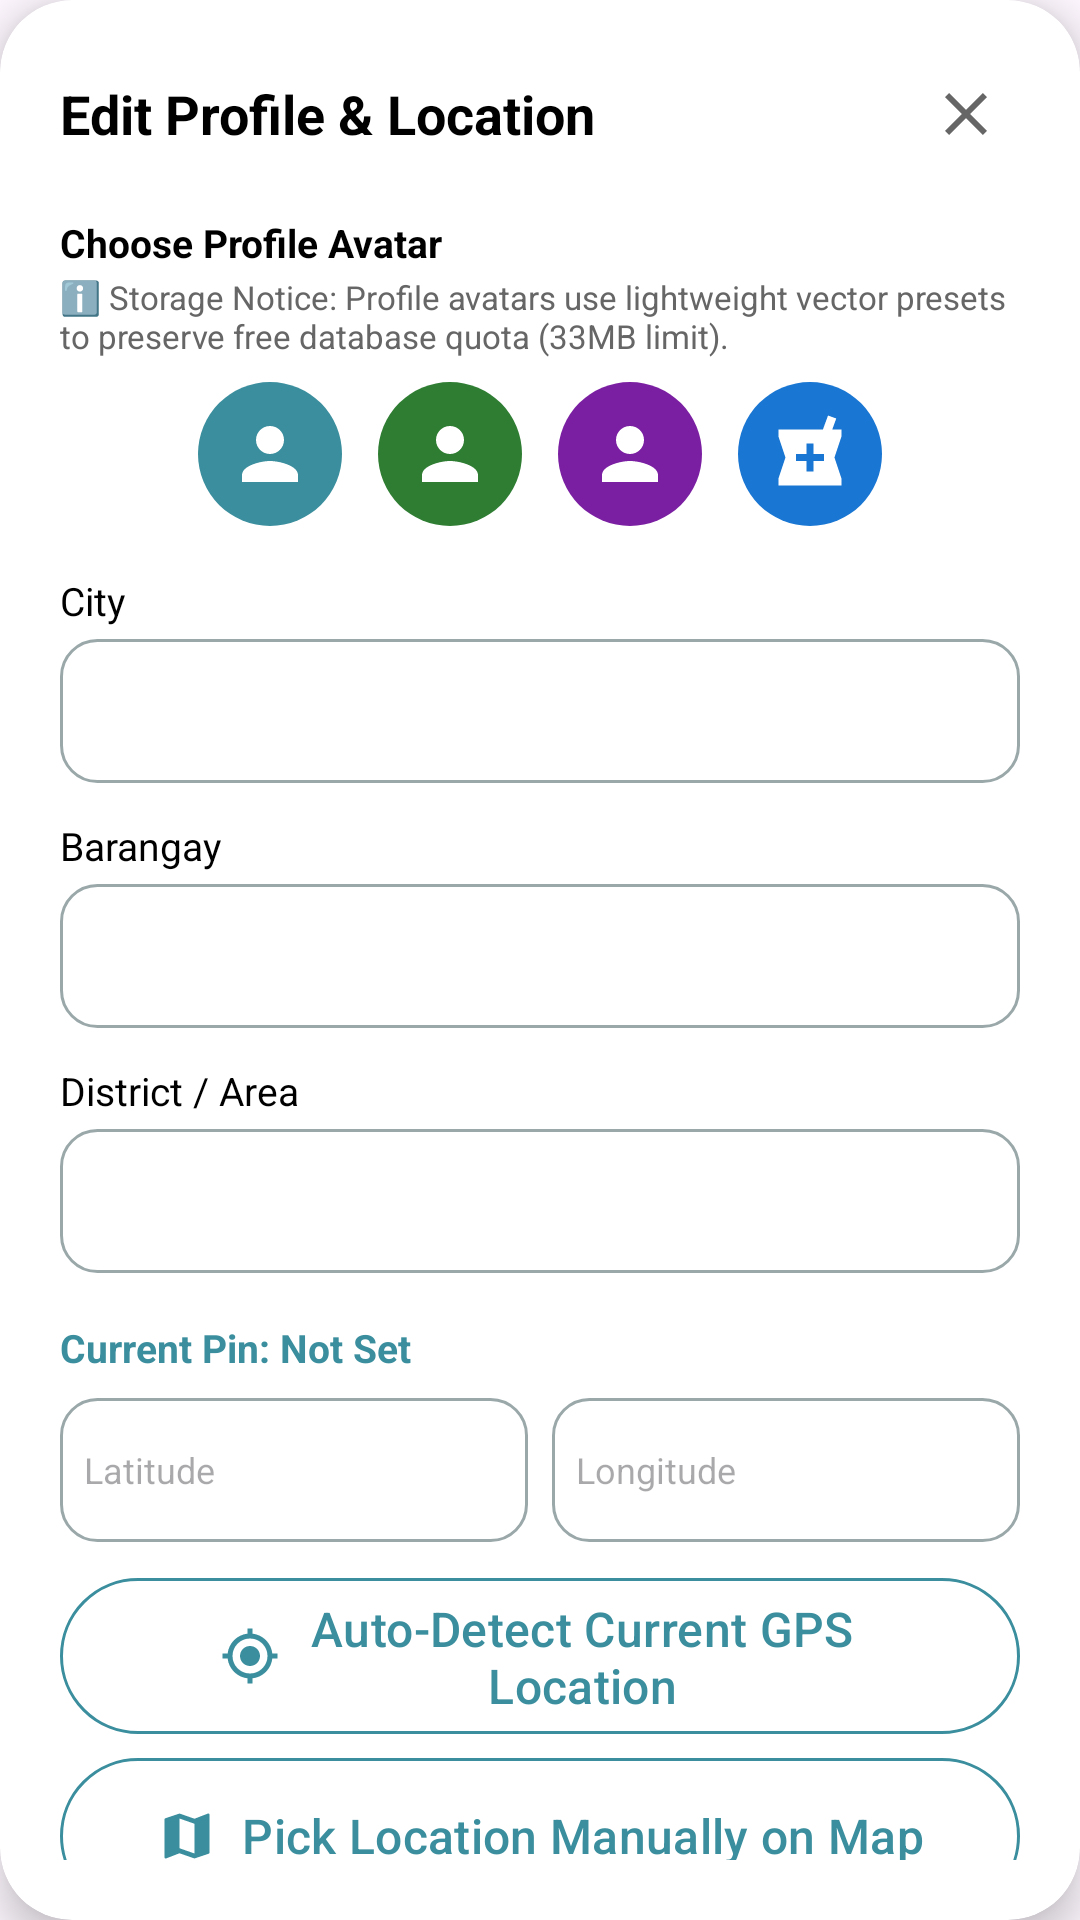

Where icons sit on this 1080*1920 app screen, as (x1, y1, x2, y2):
close: (945, 93, 987, 135)
local pharmacy: (738, 382, 882, 526)
person: (198, 382, 342, 526), (378, 382, 522, 526), (558, 382, 702, 526)
